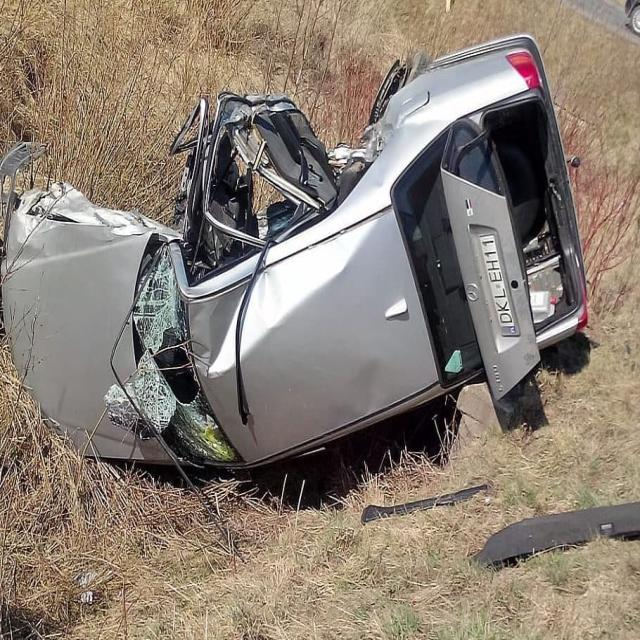Accident: (4, 36, 591, 480)
